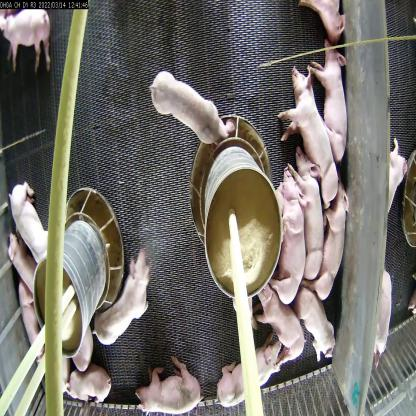Pig: (272, 65, 340, 206), (144, 70, 229, 152), (91, 244, 150, 348), (309, 35, 349, 166), (293, 137, 327, 275), (222, 338, 281, 415), (272, 169, 306, 300), (0, 4, 62, 72), (12, 174, 56, 257), (321, 180, 348, 302), (137, 363, 200, 415), (294, 279, 334, 358), (258, 294, 305, 359), (3, 232, 35, 310), (66, 367, 114, 412), (19, 289, 40, 352), (73, 319, 98, 371)
